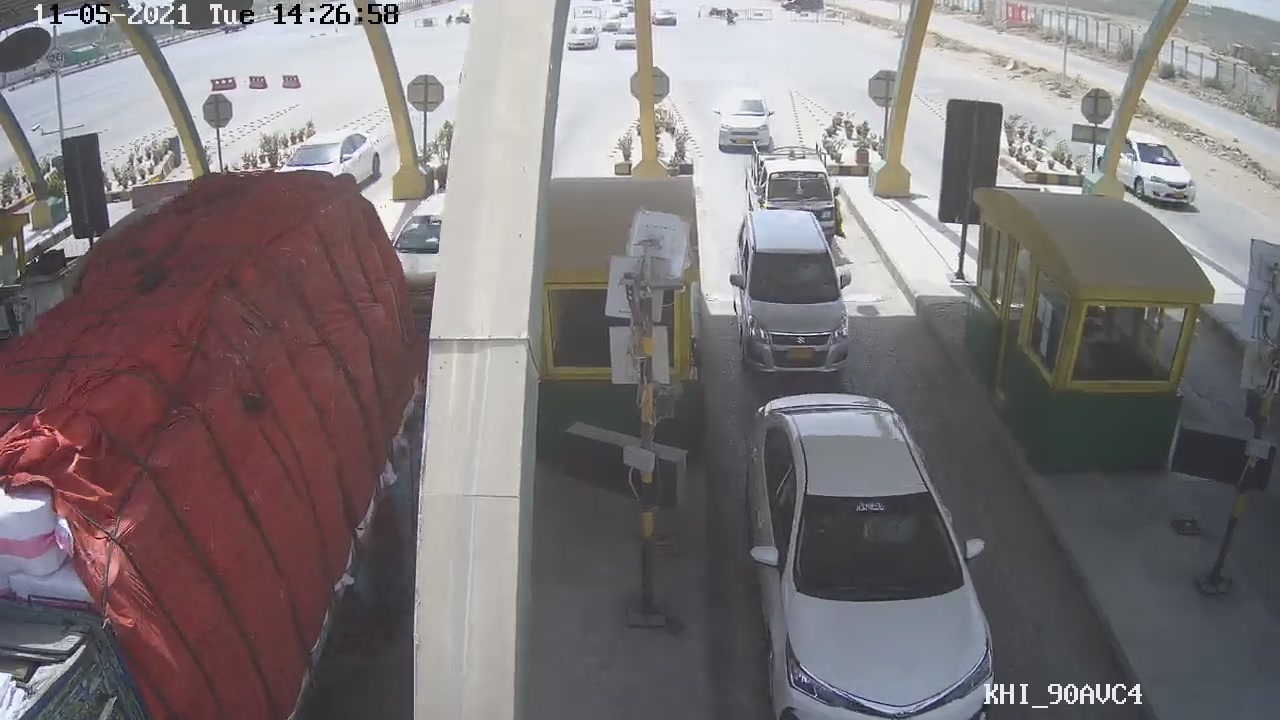F1: (725, 210, 856, 377)
